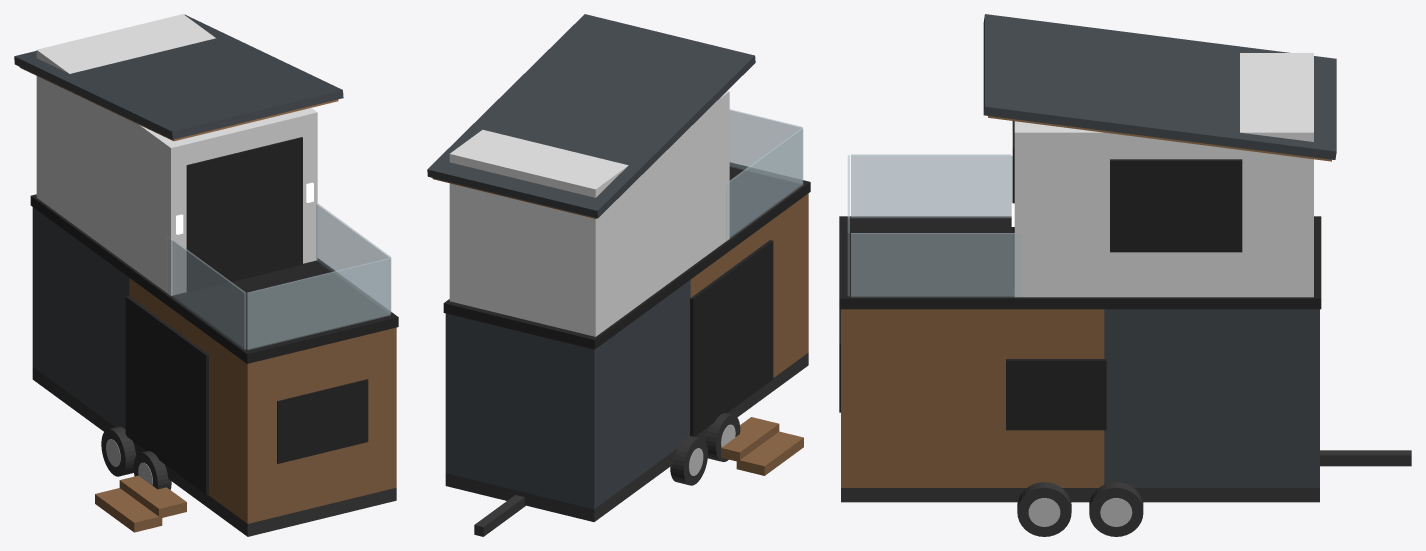
File: tinyhouse.glb
3 renders of one model, left to right at view 1: azimuth 30°, elevation 25°; view 2: azimuth 150°, elevation 25°; view 3: azimuth 270°, elevation 25°, orthographic. The views are drawn at different scales.
Parts seen in each view (by area): view 1: Upper_Room_Body, GF_Front_Wood, Roof_CharcoalCover, Upper_Floor_Deck, GF_Rear_Charcoal, Balcony_Door_Trim, GF_Door_Trim, Balcony_Glass_Front, GF_FrontWin_Trim, Balcony_Glass_Left, Balcony_Glass_Right, Chassis_Base (+5 smaller); view 2: Upper_Room_Body, GF_Rear_Charcoal, Roof_CharcoalCover, GF_Door_Trim, Upper_Floor_Deck, GF_Front_Wood, Balcony_Glass_Left, Balcony_Glass_Front, Chassis_Base, Stair_Plank2, Stair_Plank1, Tire_L_0.45 (+2 smaller); view 3: Upper_Room_Body, GF_Front_Wood, GF_Rear_Charcoal, Roof_CharcoalCover, Upper_Floor_Deck, Upper_SideWin_Trim, Balcony_Glass_Right, Balcony_Glass_Left, GF_RightWin_Trim, Chassis_Base, Tire_R_0.45, Tire_R_-0.45 (+4 smaller).
Part boxes in pixels (left/top/right/bottom): Upper_Room_Body: left=36, top=14, right=317, bottom=295; GF_Front_Wood: left=129, top=278, right=396, bottom=523; Roof_CharcoalCover: left=14, top=14, right=343, bottom=139; Upper_Floor_Deck: left=30, top=194, right=398, bottom=363; GF_Rear_Charcoal: left=32, top=207, right=129, bottom=429; Balcony_Door_Trim: left=186, top=137, right=302, bottom=292; GF_Door_Trim: left=125, top=296, right=208, bottom=494; Balcony_Glass_Front: left=246, top=258, right=390, bottom=349; GF_FrontWin_Trim: left=277, top=379, right=368, bottom=463; Balcony_Glass_Left: left=167, top=237, right=245, bottom=349; Balcony_Glass_Right: left=316, top=203, right=391, bottom=313; Chassis_Base: left=32, top=367, right=396, bottom=536; Upper_Room_Body: left=449, top=91, right=729, bottom=336; GF_Rear_Charcoal: left=445, top=280, right=690, bottom=508; Roof_CharcoalCover: left=427, top=14, right=755, bottom=217; GF_Door_Trim: left=690, top=240, right=773, bottom=436; Upper_Floor_Deck: left=443, top=162, right=810, bottom=349; GF_Front_Wood: left=690, top=193, right=808, bottom=377; Balcony_Glass_Left: left=726, top=128, right=803, bottom=240; Balcony_Glass_Front: left=729, top=109, right=802, bottom=183; Chassis_Base: left=445, top=352, right=808, bottom=521; Stair_Plank2: left=736, top=431, right=803, bottom=475; Stair_Plank1: left=721, top=417, right=779, bottom=461; Tire_L_0.45: left=670, top=435, right=707, bottom=485; Upper_Room_Body: left=1014, top=53, right=1313, bottom=297; GF_Front_Wood: left=841, top=309, right=1104, bottom=487; GF_Rear_Charcoal: left=1104, top=309, right=1319, bottom=487; Roof_CharcoalCover: left=983, top=14, right=1336, bottom=159; Upper_Floor_Deck: left=839, top=216, right=1321, bottom=309; Upper_SideWin_Trim: left=1110, top=159, right=1242, bottom=252; Balcony_Glass_Right: left=851, top=233, right=1022, bottom=296; Balcony_Glass_Left: left=851, top=154, right=1012, bottom=217; GF_RightWin_Trim: left=1006, top=359, right=1106, bottom=430; Chassis_Base: left=841, top=488, right=1319, bottom=502; Tire_R_0.45: left=1089, top=482, right=1143, bottom=536; Tire_R_-0.45: left=1017, top=482, right=1071, bottom=536.
Bounding box in the file's own units: 3.45 × 5.95 × 7.17.
